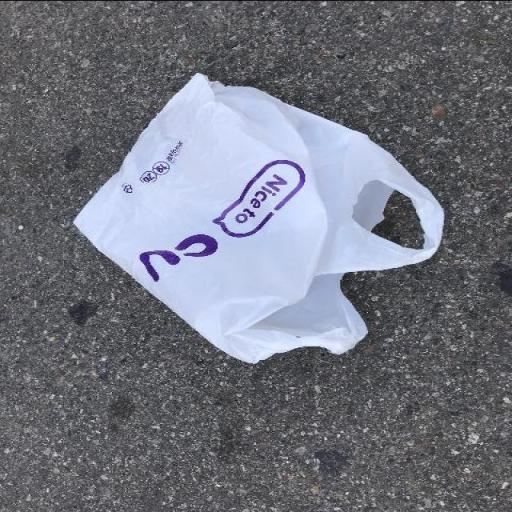plastic-bag: (74, 68, 448, 369)
